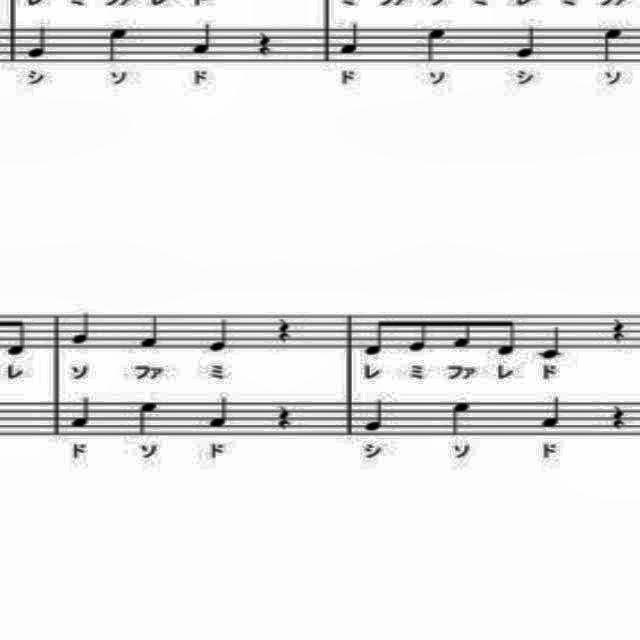Eighth-note: (493, 304, 522, 360), (448, 304, 478, 356), (0, 316, 32, 360), (403, 308, 432, 356), (361, 311, 389, 357)
Quarter-note: (532, 322, 568, 362), (139, 311, 169, 355), (534, 393, 568, 431), (204, 314, 230, 362), (204, 394, 232, 434), (362, 394, 388, 436), (68, 392, 94, 433), (105, 24, 131, 64), (423, 26, 449, 66), (597, 26, 623, 66), (512, 24, 540, 60), (446, 402, 474, 438), (70, 310, 94, 350), (28, 24, 52, 60), (192, 23, 216, 57), (138, 400, 158, 440), (340, 20, 362, 56)
Quarter-rest: (273, 310, 295, 350), (253, 24, 275, 64), (274, 398, 298, 434), (606, 403, 630, 432), (609, 310, 627, 342)
